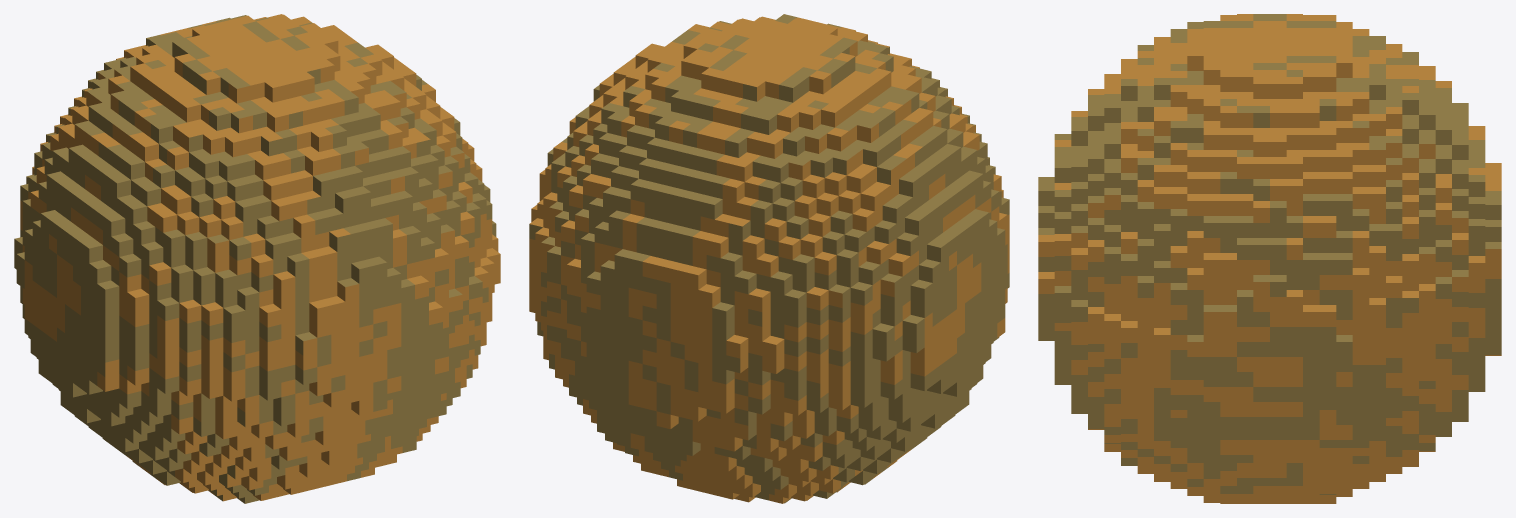
The model's file is planet9.fbx.
3 renders of one model, left to right at view 1: azimuth 30°, elevation 25°; view 2: azimuth 150°, elevation 25°; view 3: azimuth 270°, elevation 25°, orthographic. The views are drawn at different scales.
Parts seen in each view (by area): view 1: MASH1_ReproMesh; view 2: MASH1_ReproMesh; view 3: MASH1_ReproMesh.
Boxes of the visible parts, left/top/right/bottom form: MASH1_ReproMesh: left=14, top=14, right=500, bottom=503; MASH1_ReproMesh: left=529, top=14, right=1009, bottom=503; MASH1_ReproMesh: left=1038, top=14, right=1501, bottom=503.
Bounding box in the file's own units: 28 × 28 × 28.
